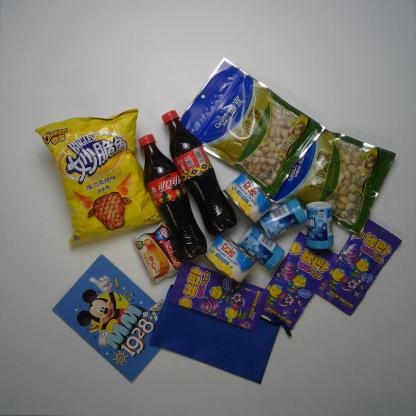Candy: (314, 217, 402, 317), (261, 230, 340, 330), (167, 262, 270, 332)
Canned Food: (204, 232, 257, 285), (223, 172, 275, 225)
Dessert: (131, 220, 183, 284)
Dried Fruit: (178, 56, 328, 199), (264, 126, 399, 237)
Drink: (160, 108, 238, 236), (138, 134, 208, 262)
Gum: (236, 226, 285, 272), (259, 197, 308, 240), (305, 200, 334, 250)
Puffed Food: (34, 108, 165, 246)
Stationery: (51, 253, 163, 384), (148, 283, 293, 384)
